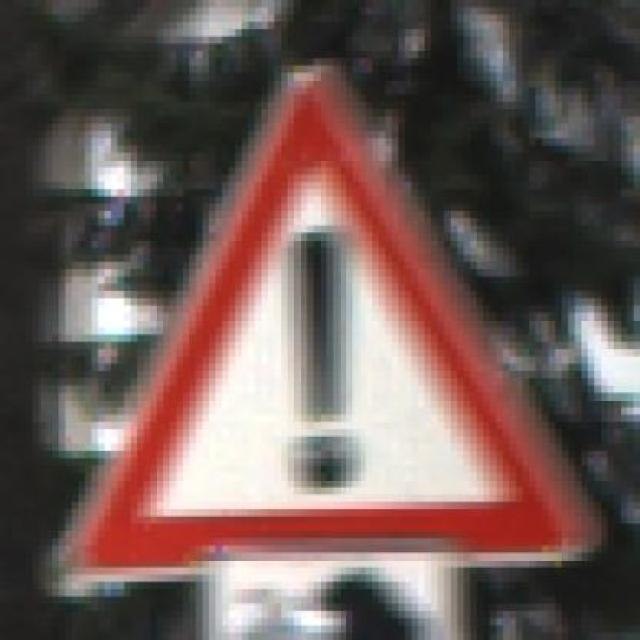Attention Please-: (46, 43, 620, 597)
